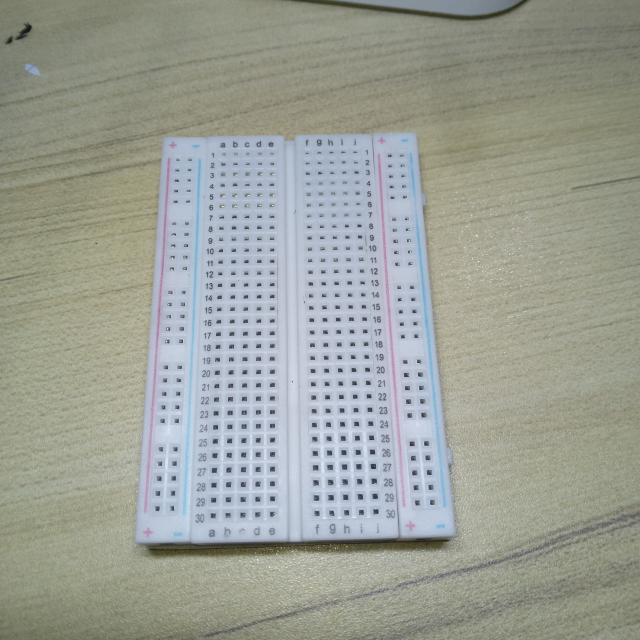breadboard: (136, 123, 470, 555)
